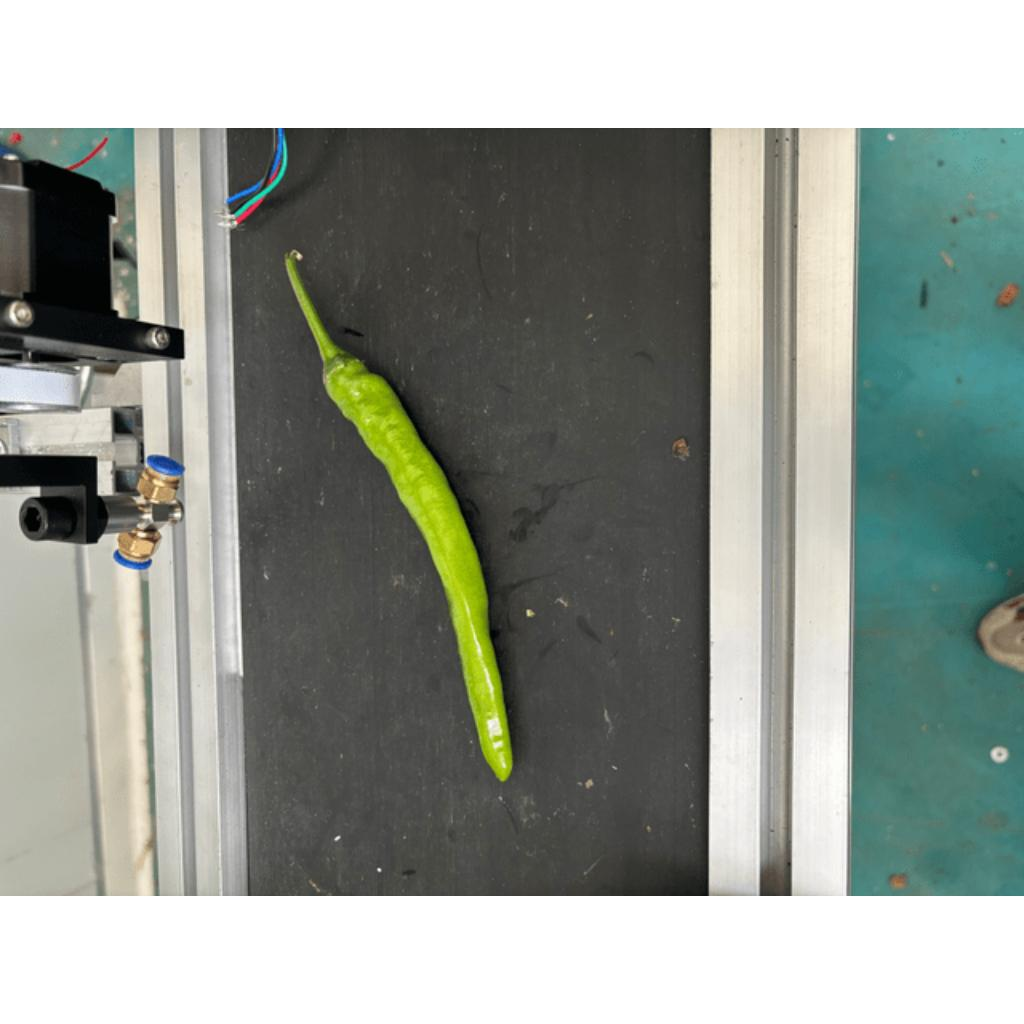chili: (317, 349, 513, 784)
